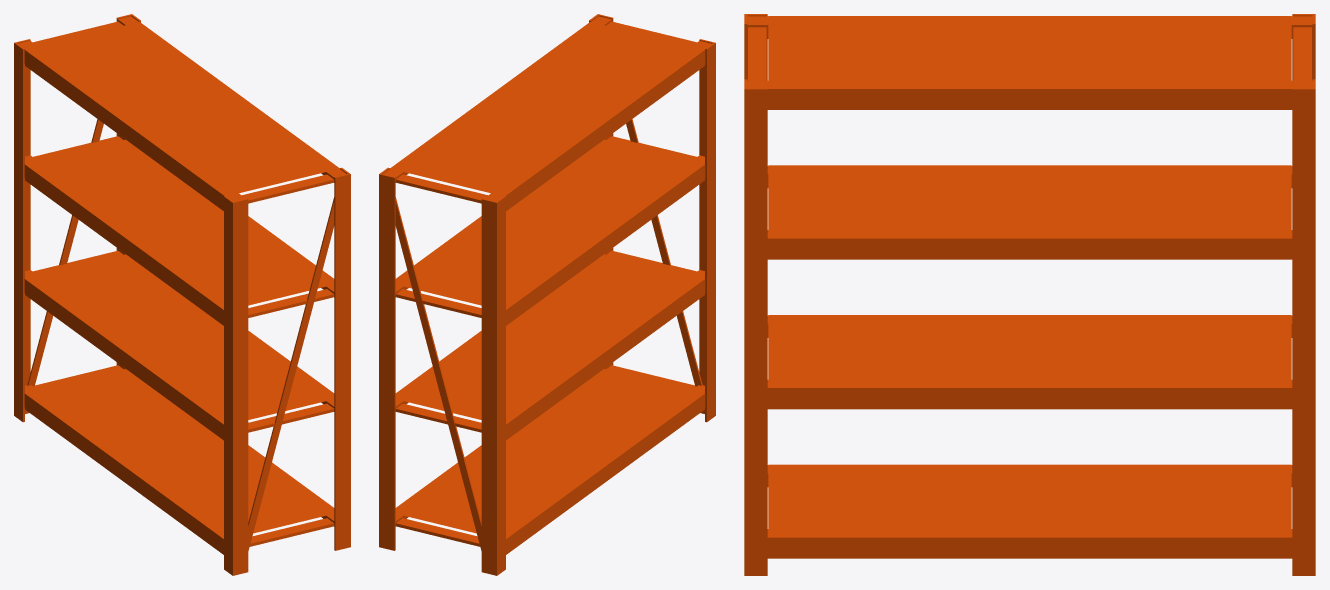
File: Storage_Shelves_low.fbx
3 views of the same model, side by side, from view 1: azimuth 30°, elevation 25°; view 2: azimuth 150°, elevation 25°; view 3: azimuth 270°, elevation 25° (orthographic). The views are drawn at different scales.
Parts seen in each view (by area): view 1: Storage_Shelving_low; view 2: Storage_Shelving_low; view 3: Storage_Shelving_low.
Part boxes in pixels (bbox=[...]): Storage_Shelving_low: bbox=[14, 14, 350, 575]; Storage_Shelving_low: bbox=[379, 14, 715, 575]; Storage_Shelving_low: bbox=[744, 14, 1315, 575].
Bounding box in the file's own units: 60.95 × 184 × 196.
